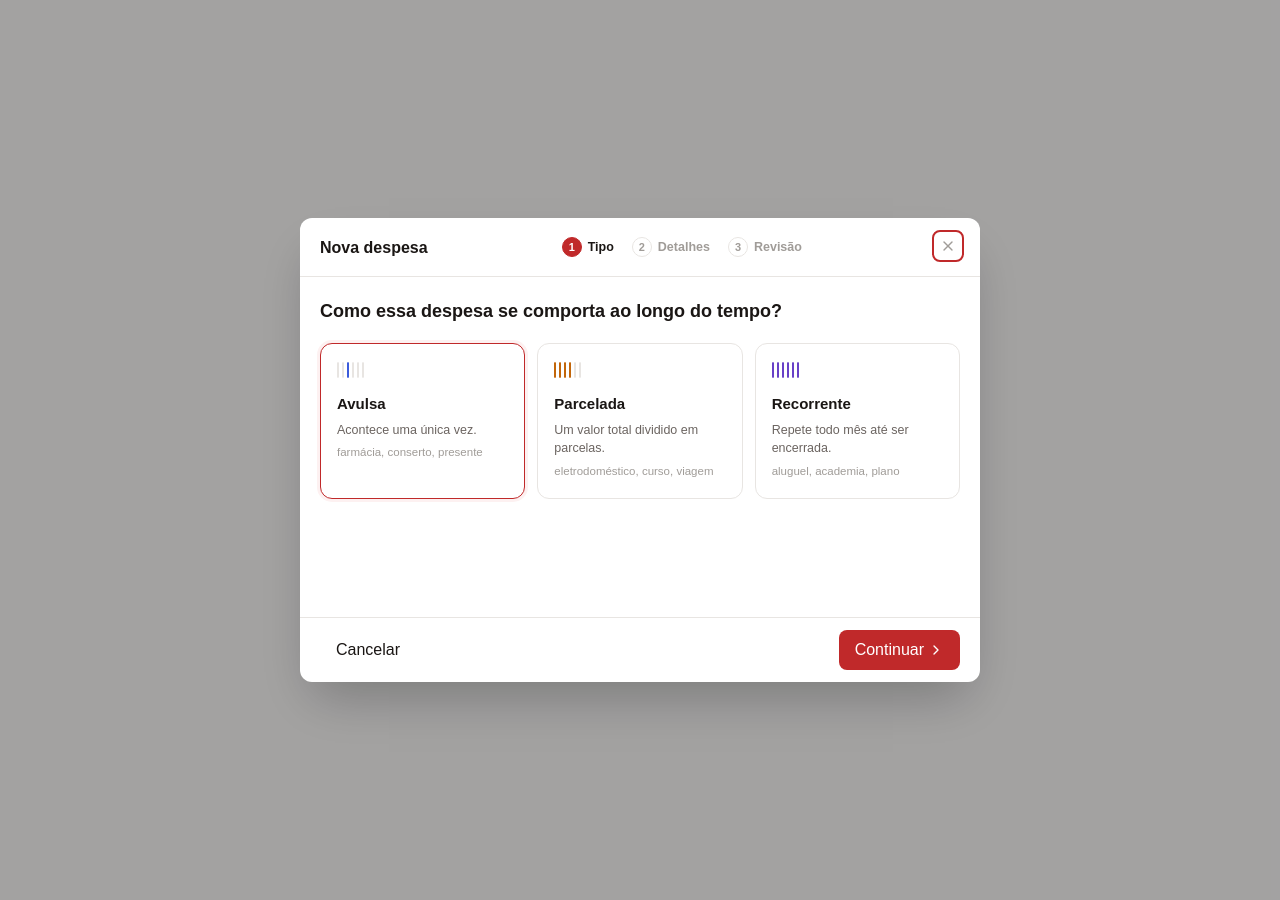
Test: ExpenseWizard: etapa Detalhes › mostra os rótulos da parcelada, categorias em ordem alfabética e o stepper
Click the radio button labelled "Parcelada". click: (640, 421)
box: [537, 343, 743, 499]
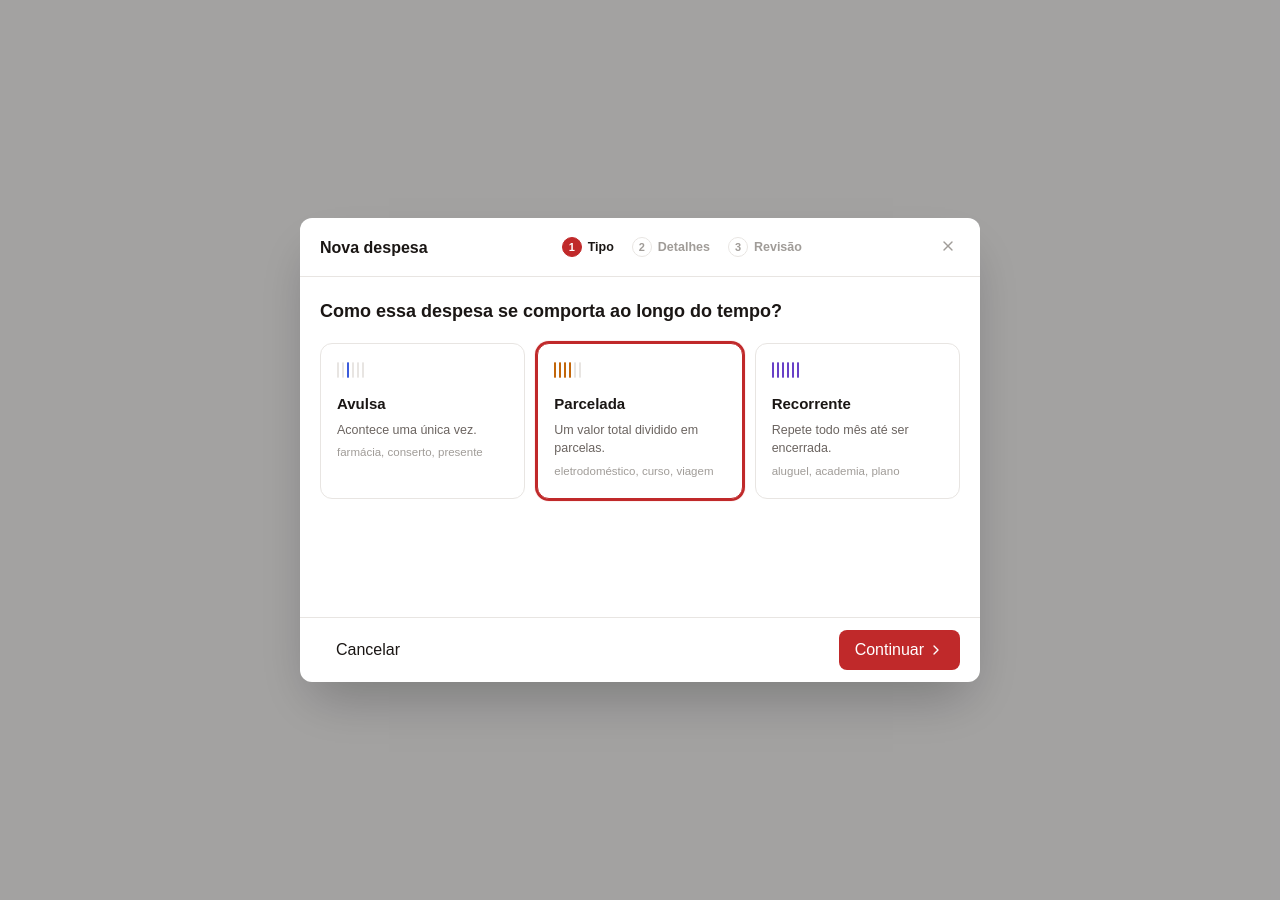
Click the button "Continuar". click: (899, 650)
box: [839, 630, 960, 670]
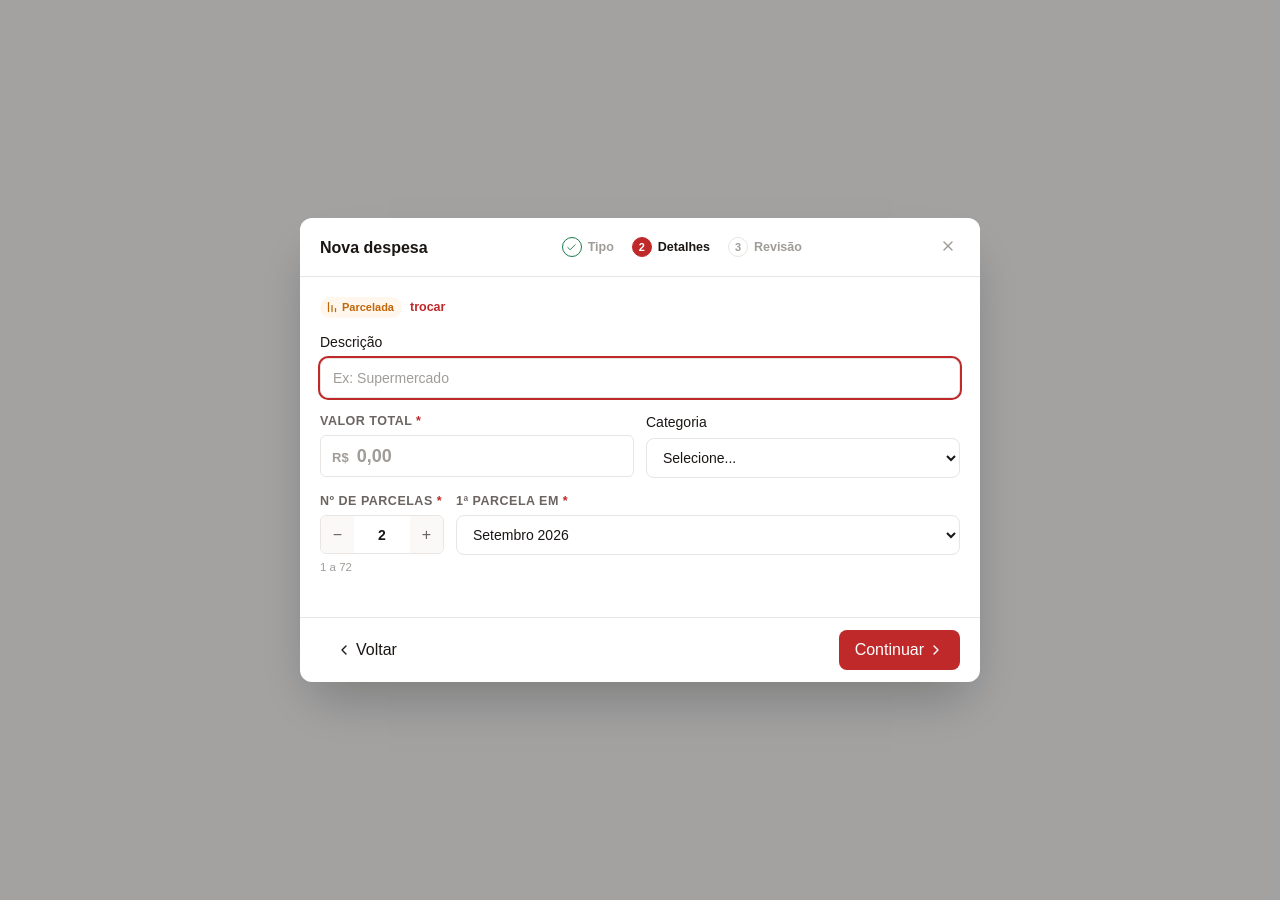
Expected: the field labelled "Valor total *" is shown, [357, 442, 622, 470]
Expected: the dropdown labelled "1ª parcela em *" shows "Setembro 2026", [456, 515, 960, 555]
Expected: the field labelled "Nº de parcelas *" holds "2", [354, 516, 410, 553]
Click the button named "Aumentar". click: (426, 535)
box: [410, 516, 443, 553]
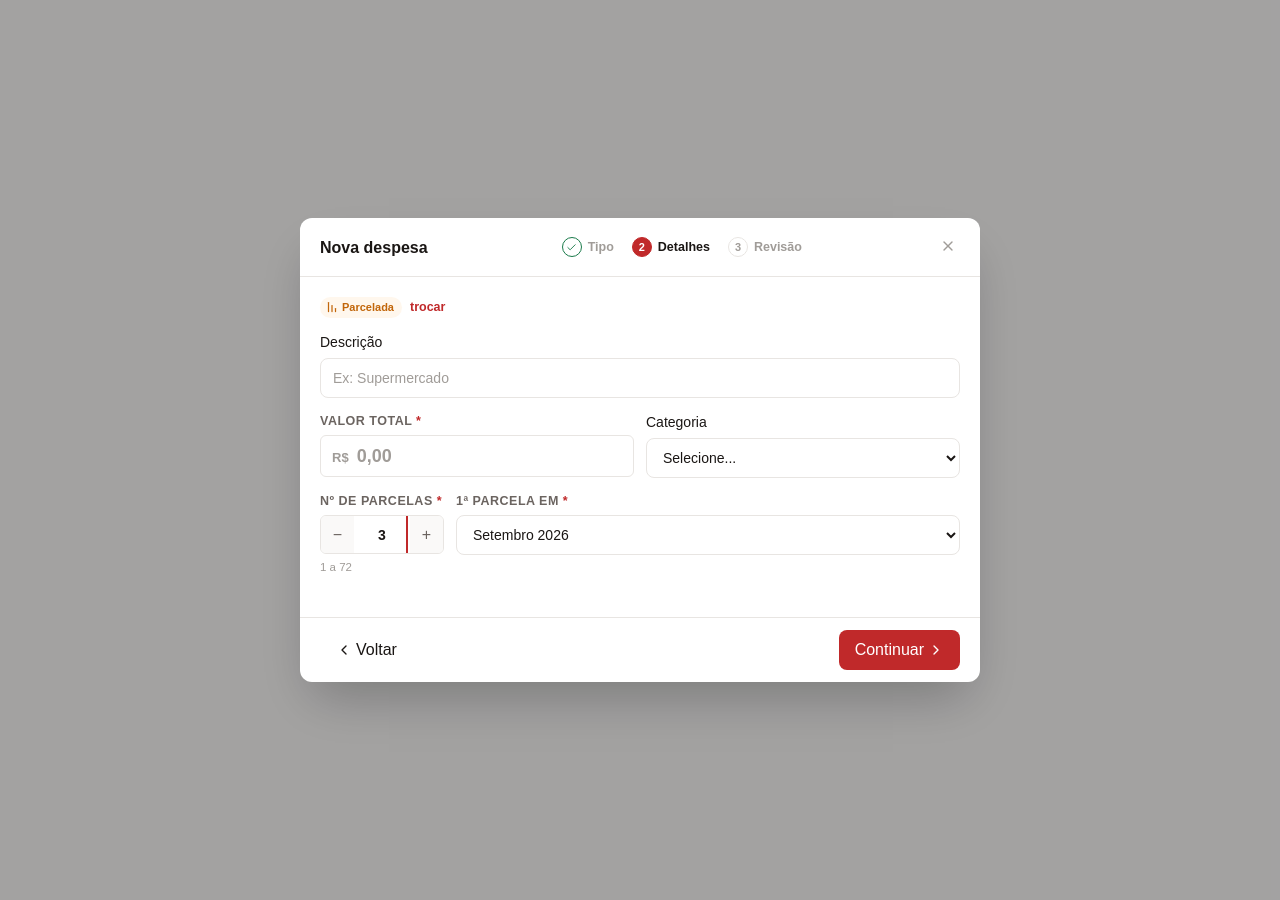
Expected: the field labelled "Nº de parcelas *" holds "3", [354, 516, 410, 553]
